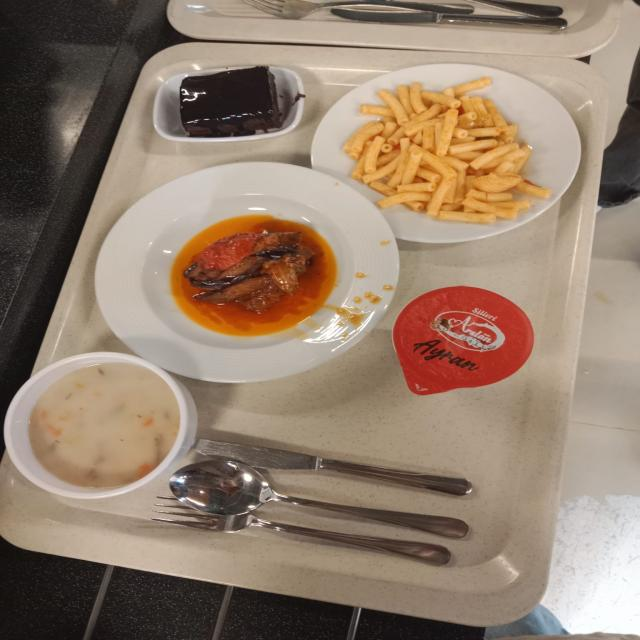ana_yemek: (96, 165, 394, 372), (308, 64, 572, 242)
corba: (0, 356, 192, 498)
yan_yemek: (153, 66, 305, 142)
